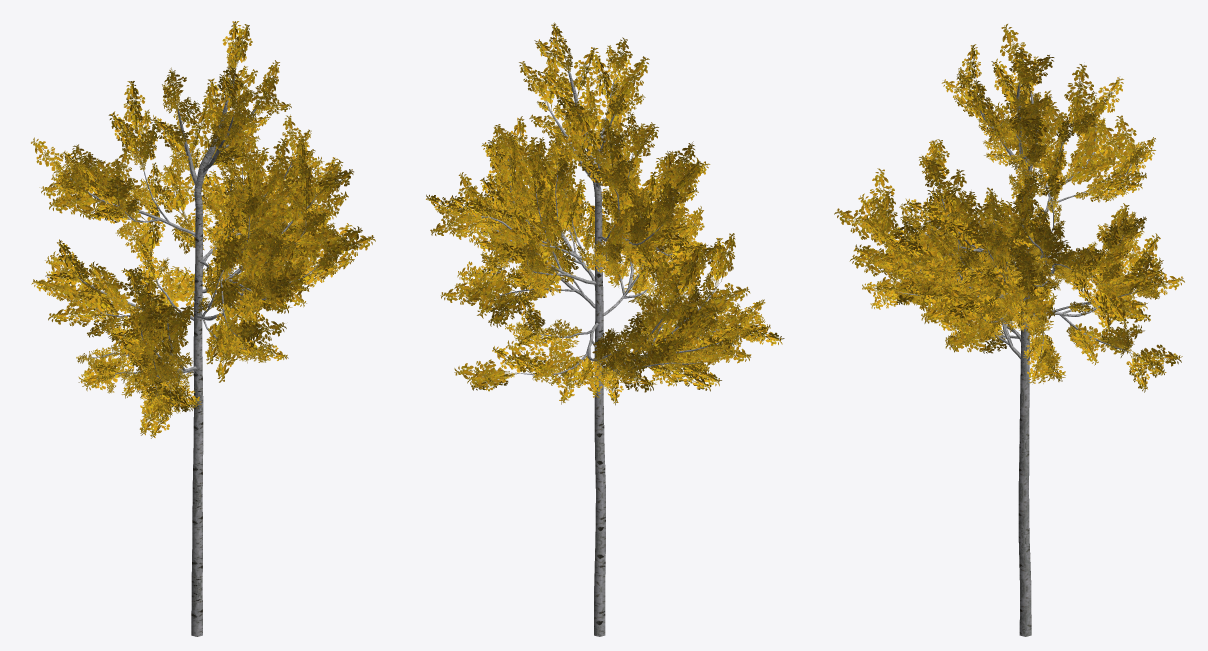
The model's file is tree-aspen.glb.
3 renders of one model, left to right at view 1: azimuth 30°, elevation 25°; view 2: azimuth 150°, elevation 25°; view 3: azimuth 270°, elevation 25°, orthographic. The views are drawn at different scales.
Parts seen in each view (by area): view 1: Tree; view 2: Tree; view 3: Tree.
Part boxes in pixels (left/top/right/bottom): Tree: left=31, top=21, right=375, bottom=636; Tree: left=426, top=22, right=784, bottom=636; Tree: left=834, top=24, right=1184, bottom=636.
Size of the model in its own units: 37.61 by 71.99 by 39.05.
Materials: 2 (2 with a texture image).
